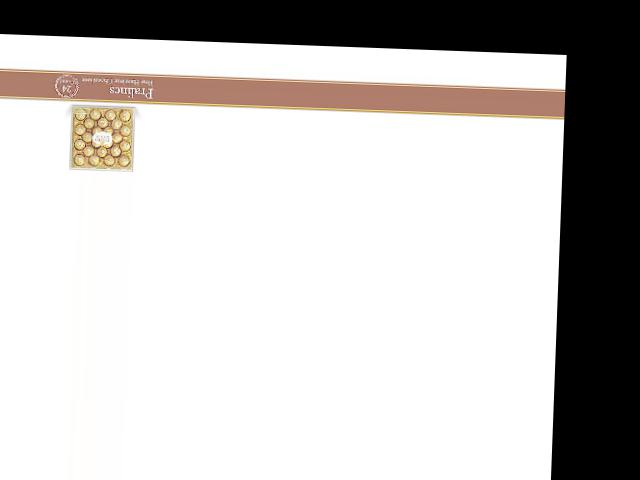chocolate: (64, 101, 138, 176)
